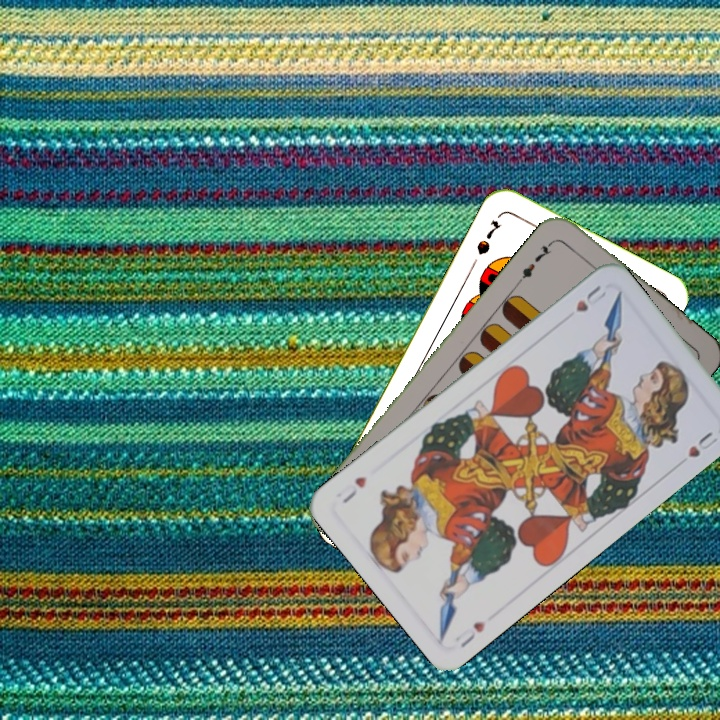E7: (514, 236, 557, 285)
HU: (571, 281, 610, 315), (451, 617, 488, 651)
S7: (472, 216, 504, 258)
